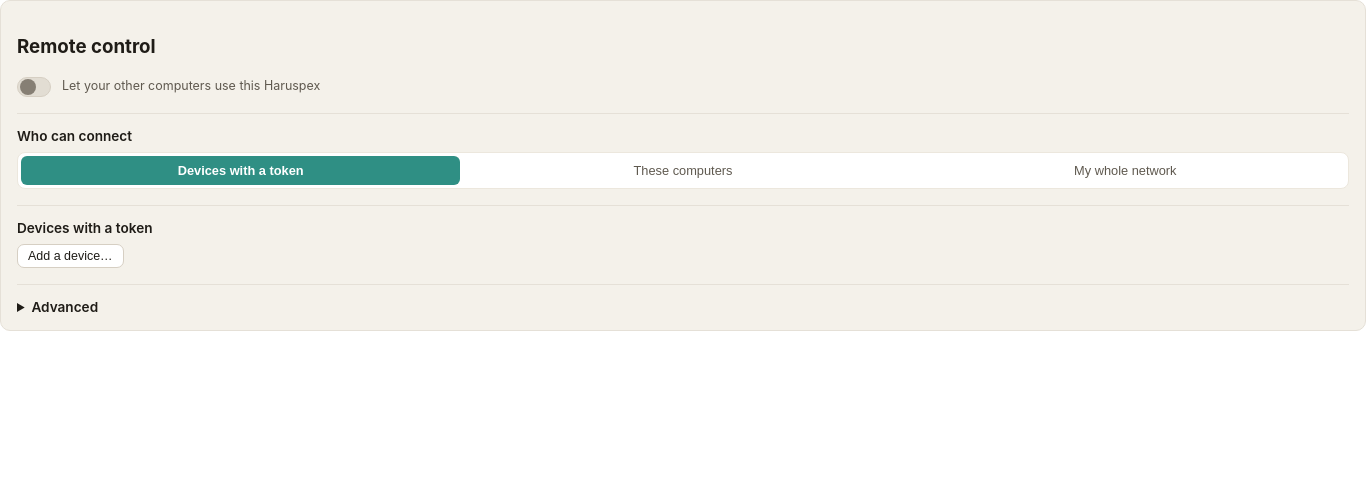
Test case: Settings → Remote control › needs a name and a permission to make a link
This screenshot has width=1366, height=479.
Click the button "Add a device…". click: [70, 256]
box: x1=17 y1=244 x2=124 y2=268
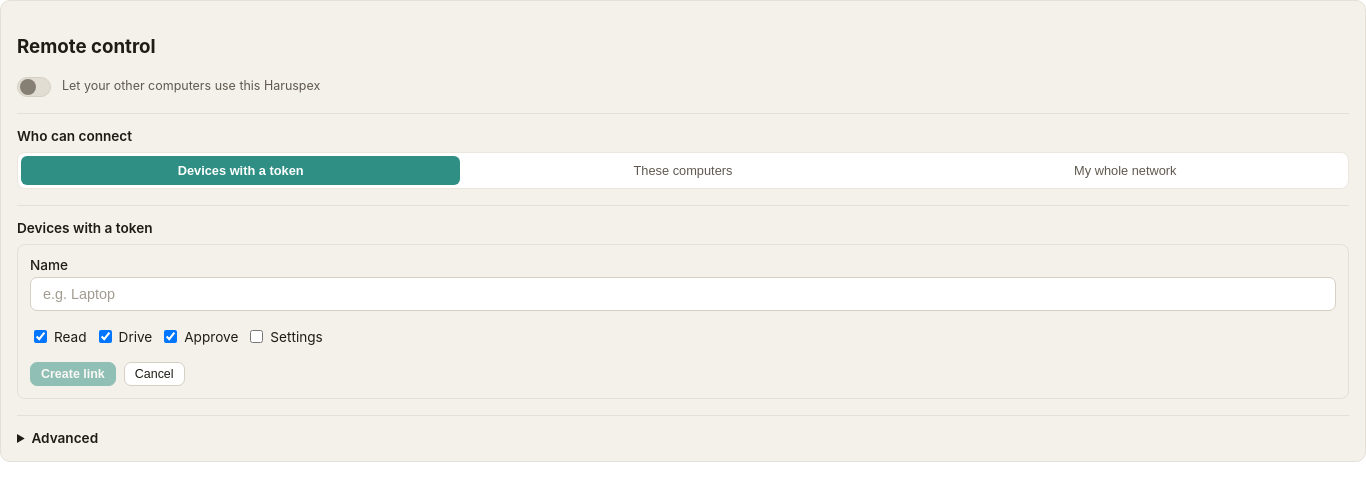
Expected: the button "Create link" is disabled, x1=30 y1=362 x2=116 y2=386
Type "Tablet" into the field labelled "Name". click: [683, 294]
box: x1=30 y1=277 x2=1336 y2=311
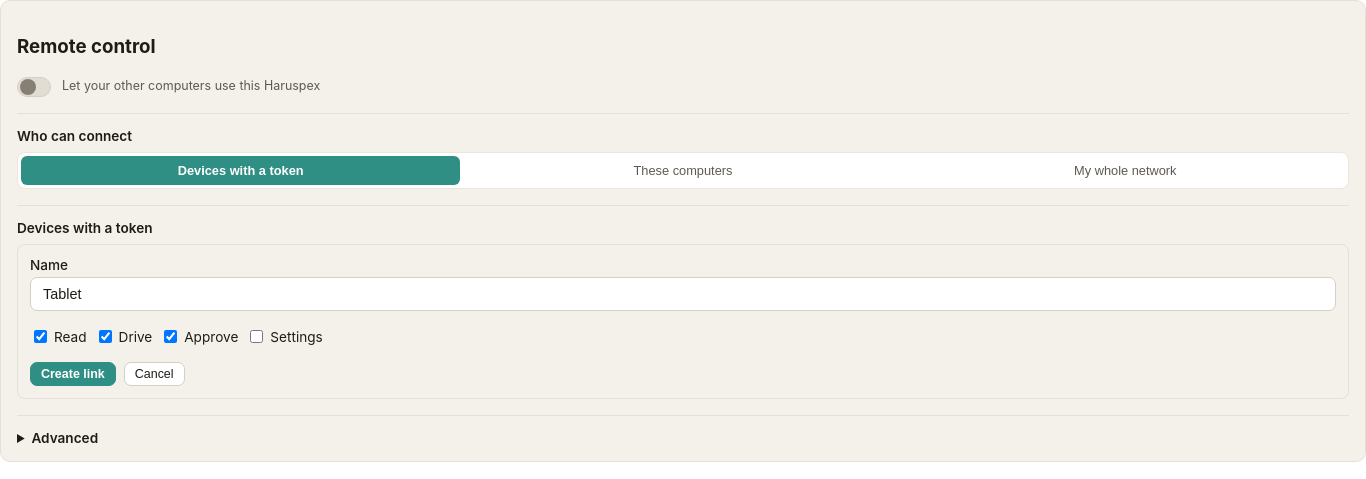
Expected: the button "Create link" is enabled, x1=30 y1=362 x2=116 y2=386
Click the checkbox labelled "Read". click: [40, 337]
box: x1=34 y1=330 x2=47 y2=343
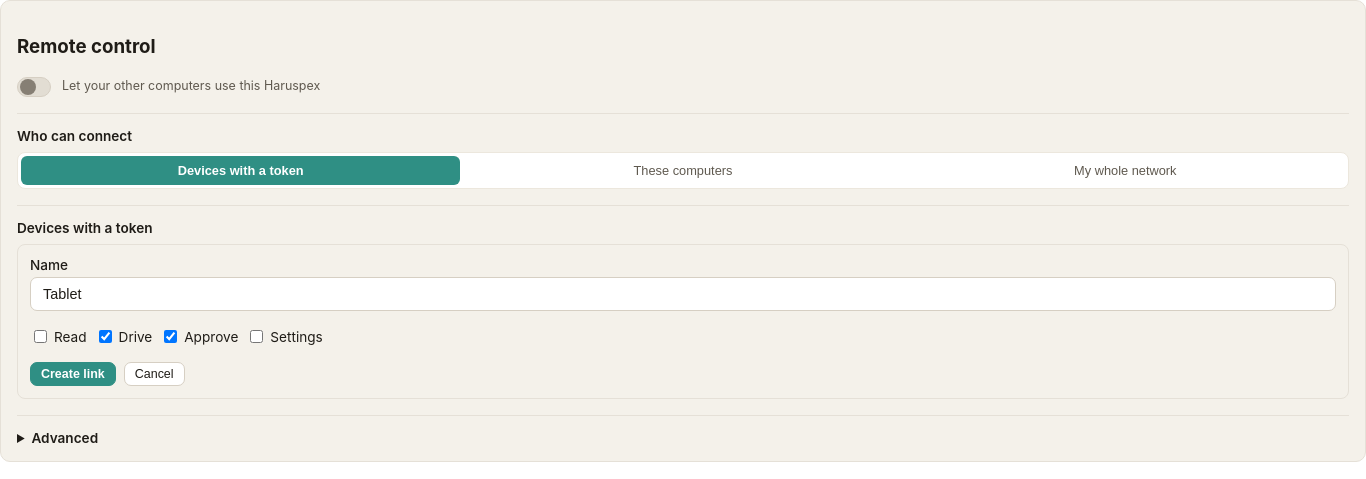
Click the checkbox labelled "Drive". click: [105, 337]
box: x1=99 y1=330 x2=112 y2=343
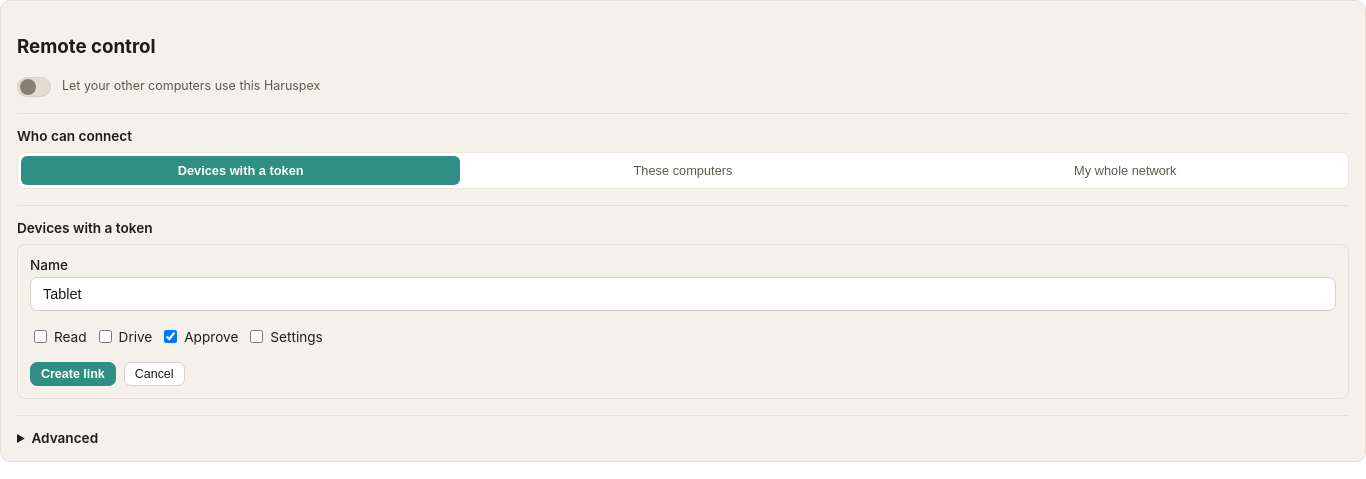
Click the checkbox labelled "Approve". click: [171, 337]
box: x1=164 y1=330 x2=177 y2=343
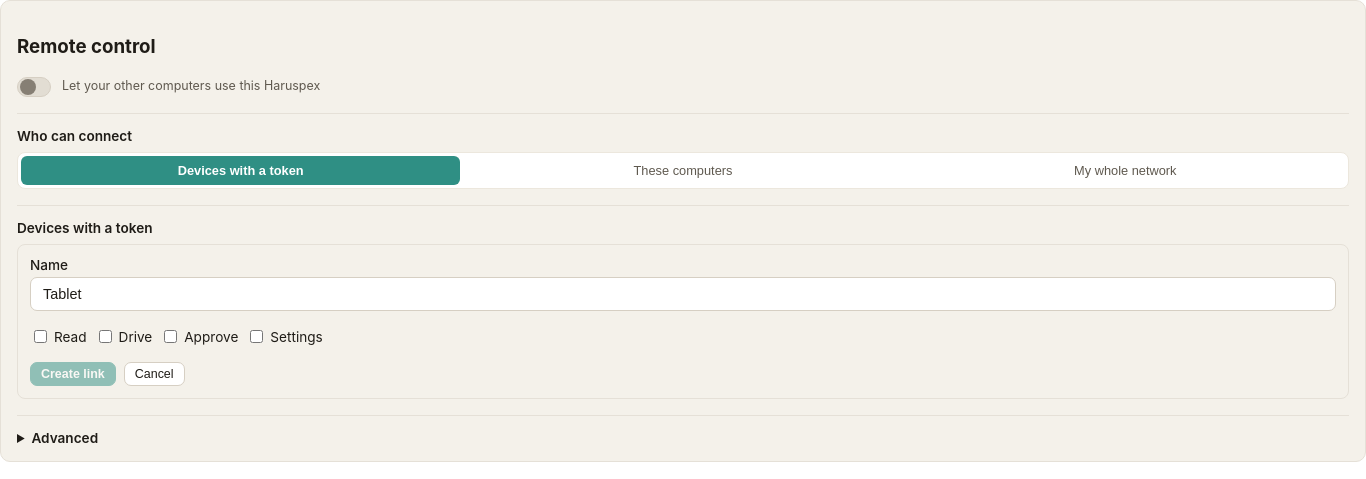
Expected: the button "Create link" is disabled, x1=30 y1=362 x2=116 y2=386
